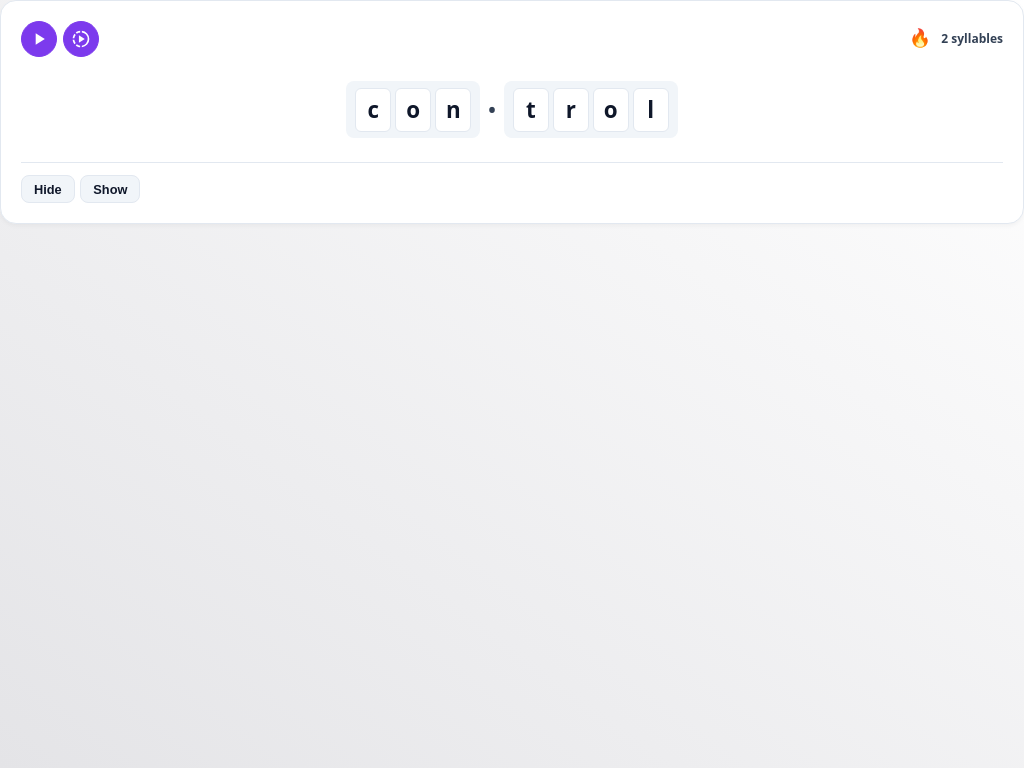
Test: WordCard coaching › opens the tip dialog from the flame for a logged-in child
This screenshot has width=1024, height=768.
Click the button named "tricky word: control" at (920, 39), box [907,28,933,50]
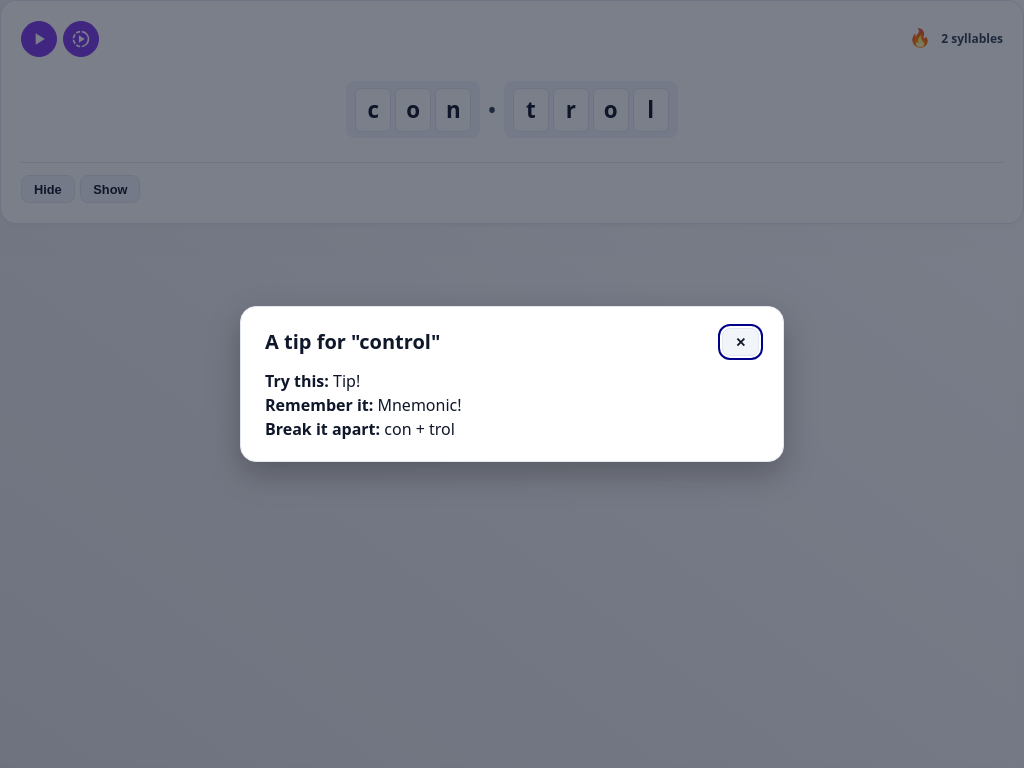
Result: the dialog "A tip for \"control\"" is shown at [240,306,784,462]
Result: the text "Try this: Tip!" is shown at [265,370,360,392]
